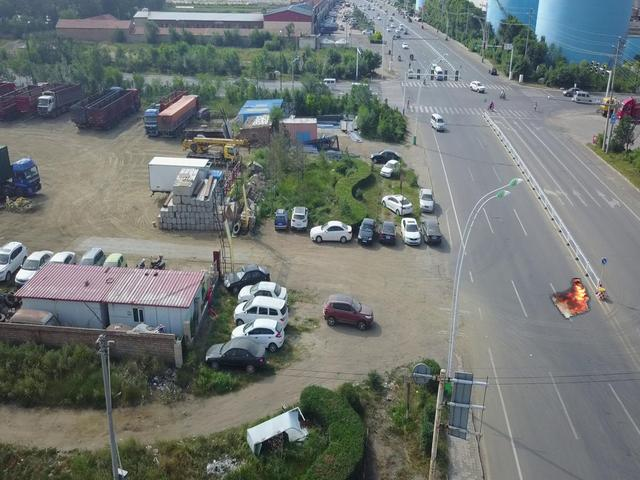fire: (550, 279, 589, 318)
